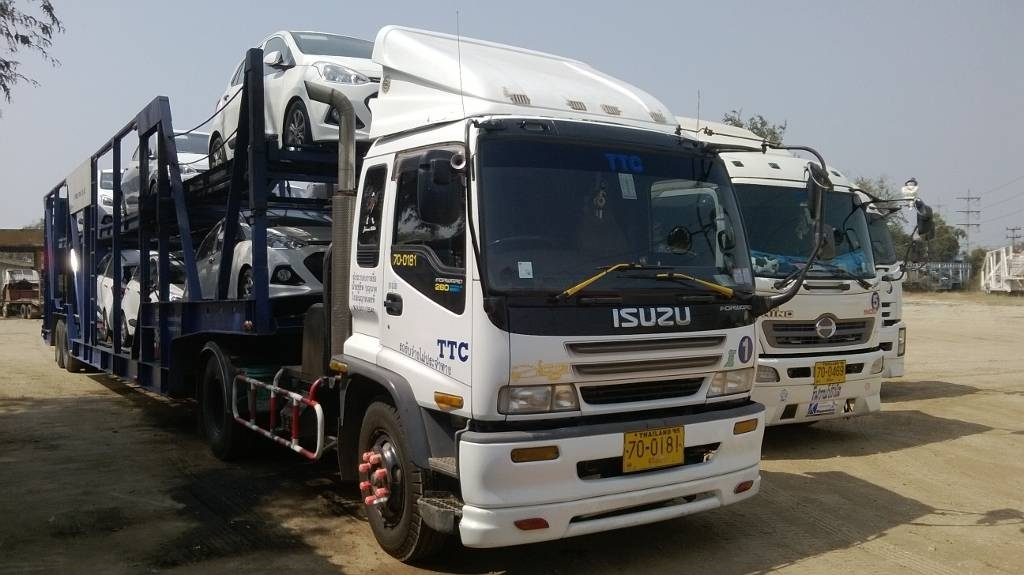truck: (345, 128, 765, 569)
